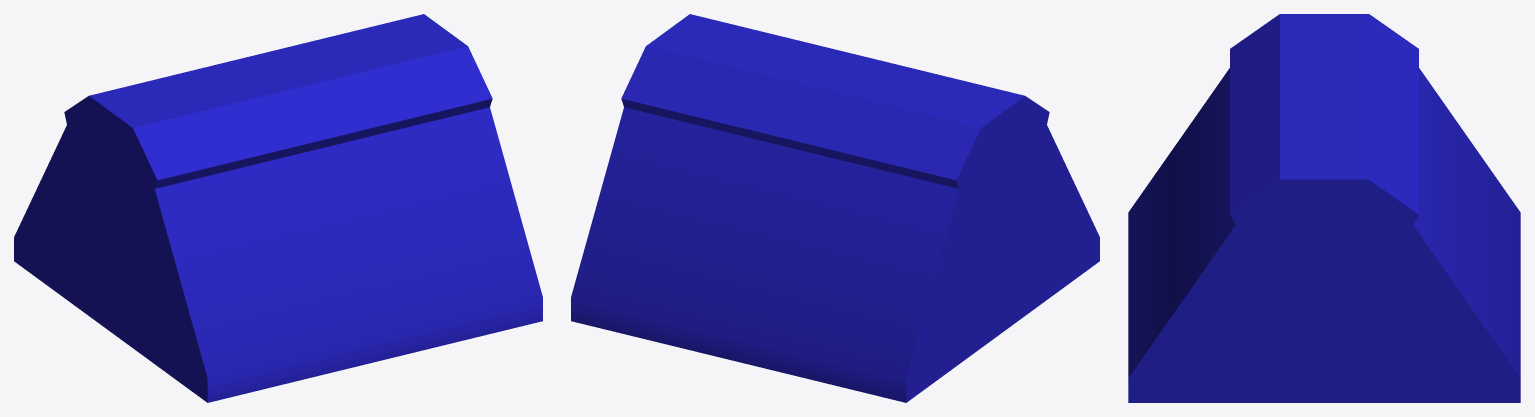
File: roof_top_body_A.fbx
The picture shows the model from 3 angles, left to right: view 1: azimuth 30°, elevation 25°; view 2: azimuth 150°, elevation 25°; view 3: azimuth 270°, elevation 25°; orthographic projection.
Visible parts, largest first — view 1: roof_top_body_A; view 2: roof_top_body_A; view 3: roof_top_body_A.
Boxes of the visible parts, x1,y1,x2,y2 form: roof_top_body_A: [14, 14, 542, 402]; roof_top_body_A: [571, 14, 1099, 402]; roof_top_body_A: [1128, 14, 1520, 402].
Size of the model in its own units: 400 by 251 by 400.
